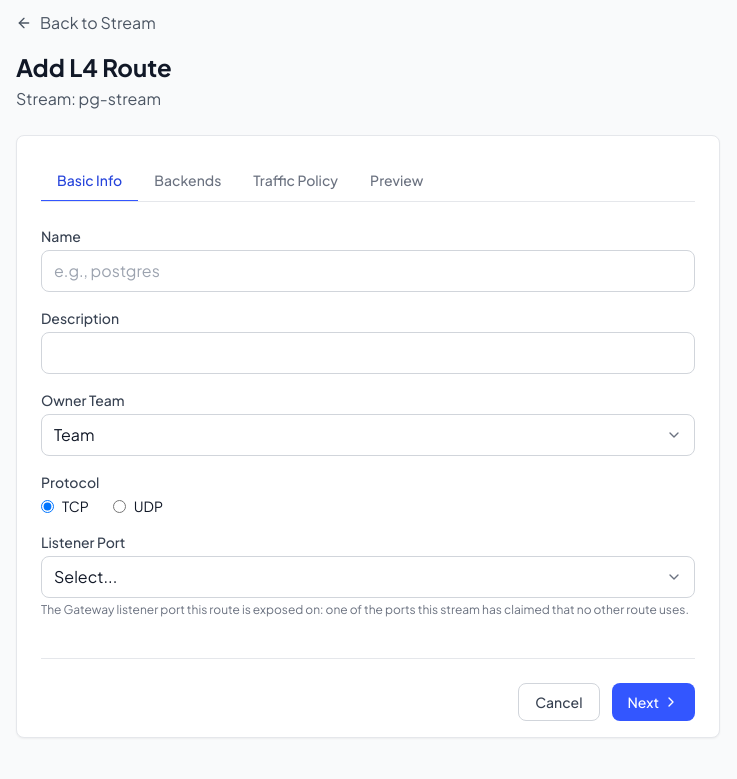
Test: Next checks only the current tab, then advances; Back returns
Expected: the field labelled "Name" is shown, [41, 250, 695, 292]
Click the button "Next": click(653, 702) [612, 683, 695, 721]
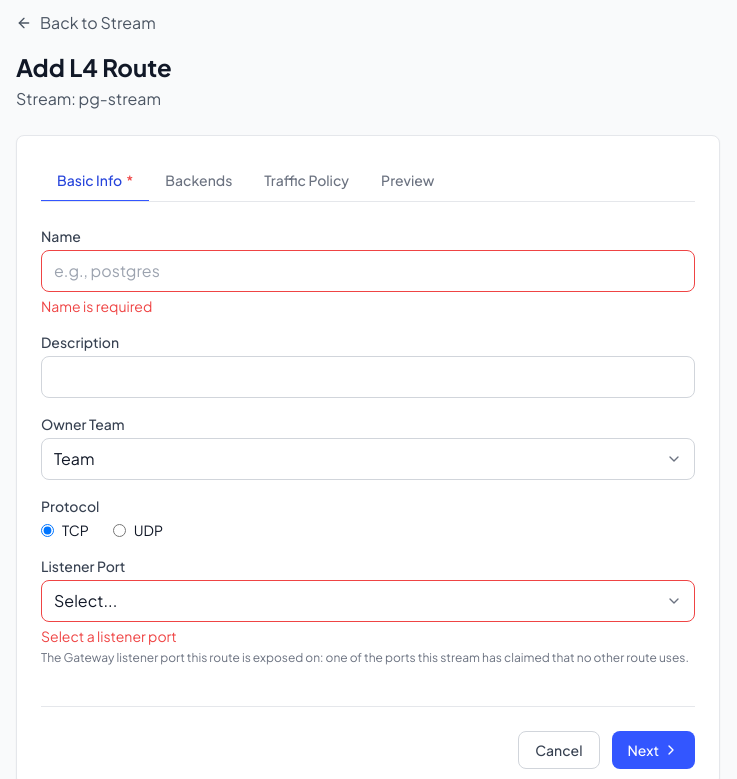
Expected: the dropdown labelled "Listener Port" is shown, [41, 580, 695, 622]
Expected: the text "Name is required" is shown, [41, 297, 152, 315]
Expected: the text "*" is shown, [126, 170, 133, 190]
In the field labelled "Name": (368, 271) [41, 250, 695, 292], type "web"
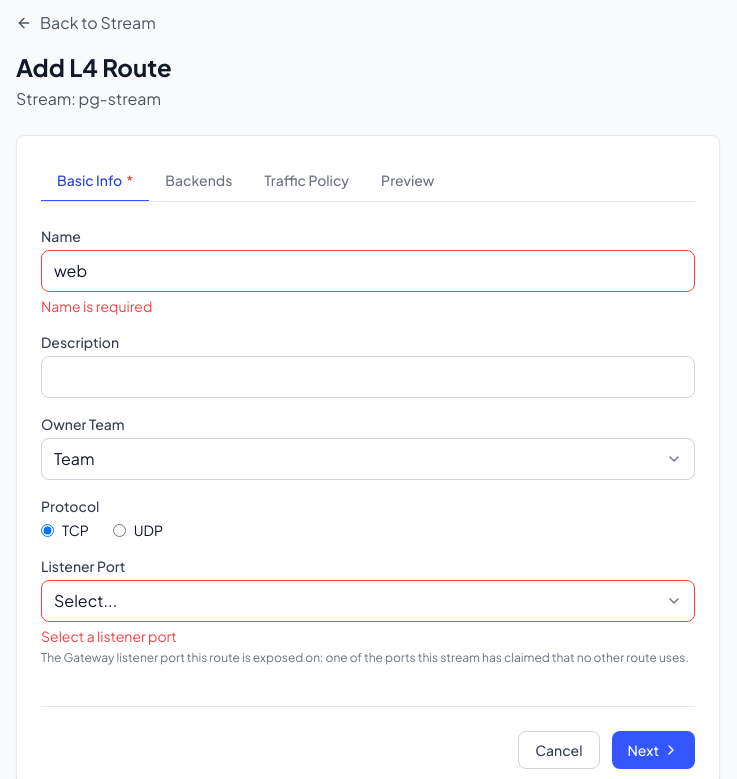
Select "6379/TCP" in the dropdown labelled "Listener Port": (368, 601) [41, 580, 695, 622]
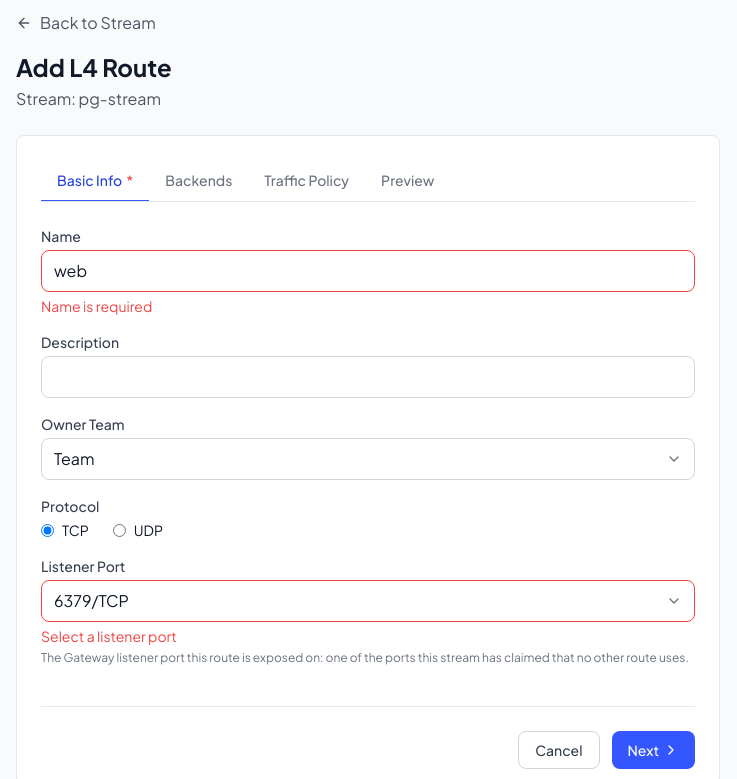
Click the button "Next": click(653, 750) [612, 731, 695, 769]
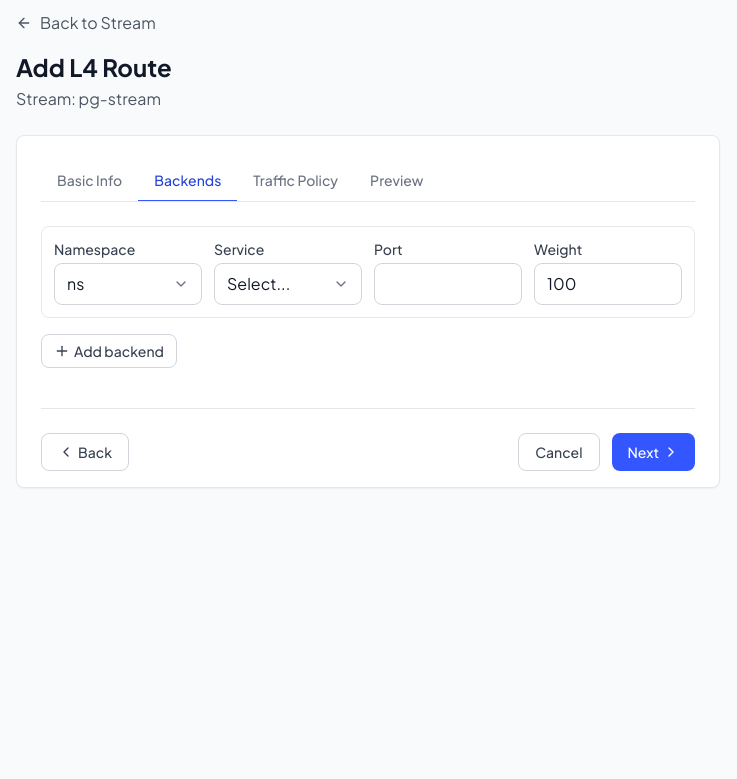
Expected: the dropdown labelled "Service" is shown, [214, 263, 362, 305]
Expected: the text with test id "tab-error-basic" is gone
Click the button "Back": click(85, 452) [41, 433, 129, 471]
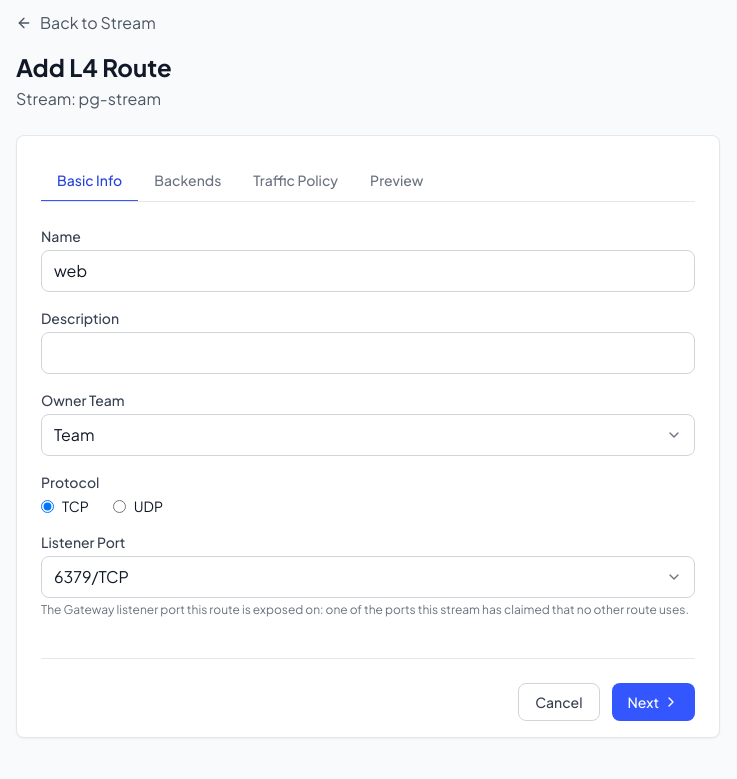
Expected: the field labelled "Name" holds "web", [41, 250, 695, 292]
